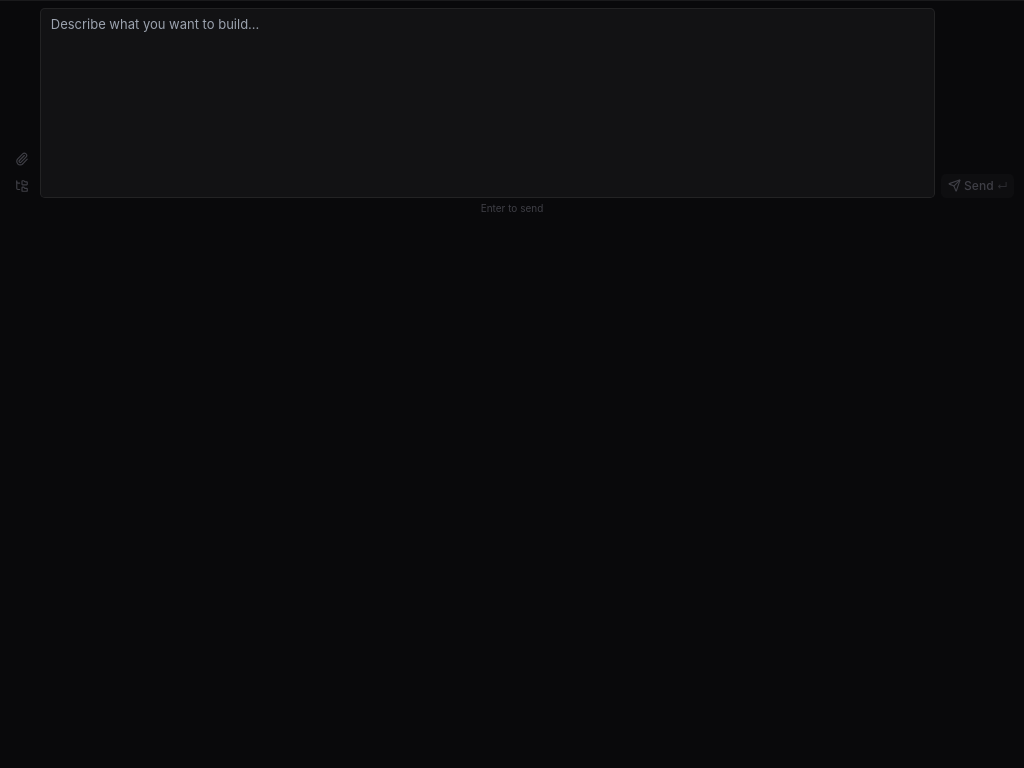
Test: SpecChatInput › opens the project file picker when the folder button is clicked
Click the button titled "Select from project folder" at (22, 186), box top-left (10, 174), bottom-right (34, 198)
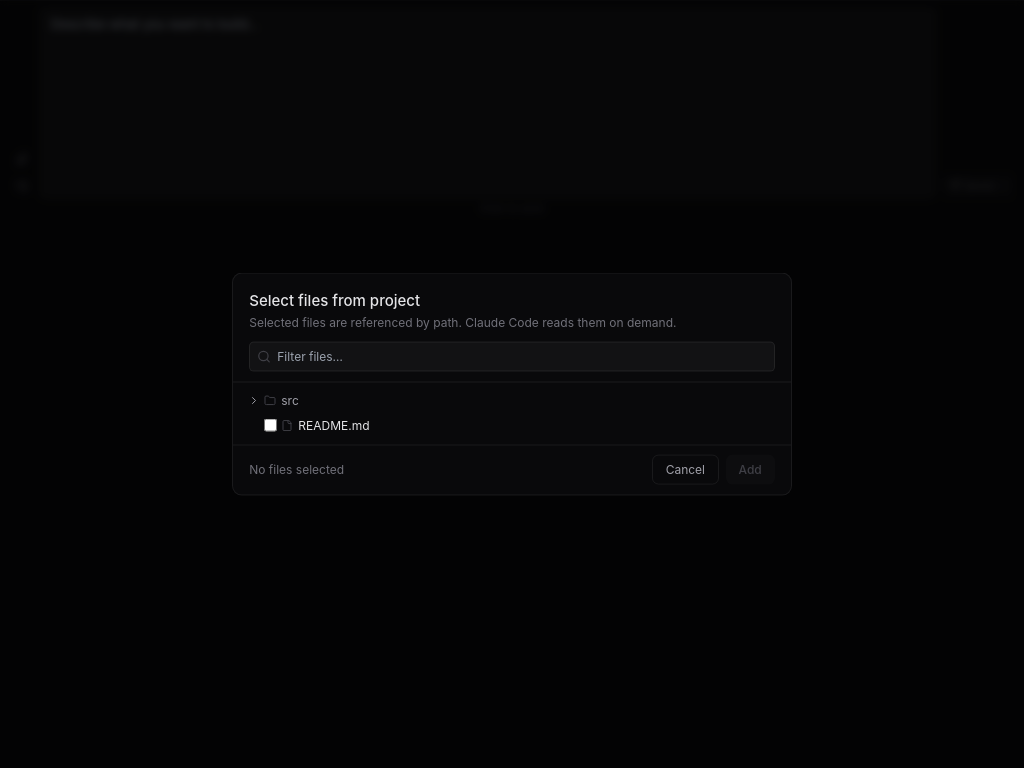
expect the heading "Select files from project" is shown: met, box top-left (249, 291), bottom-right (420, 310)
